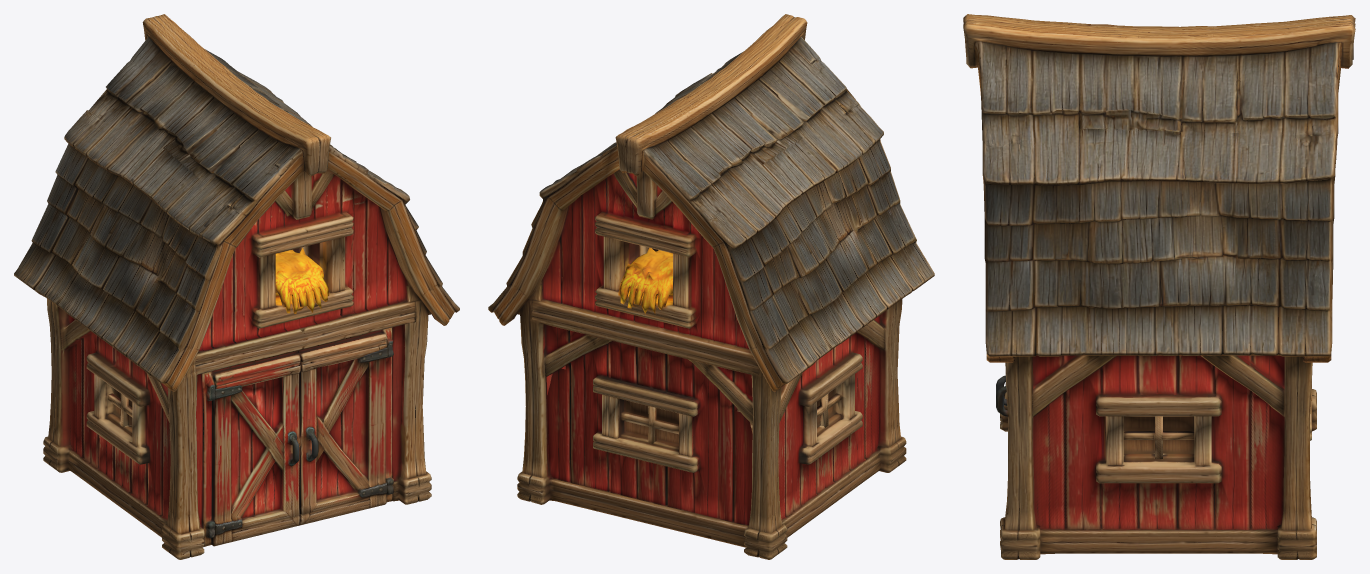
The model's file is small_barn.glb.
3 renders of one model, left to right at view 1: azimuth 30°, elevation 25°; view 2: azimuth 150°, elevation 25°; view 3: azimuth 270°, elevation 25°, orthographic. The views are drawn at different scales.
Visible parts, largest first — view 1: tripo_node_f1a62f17-a971-48fe-877e-44ef41d2149a; view 2: tripo_node_f1a62f17-a971-48fe-877e-44ef41d2149a; view 3: tripo_node_f1a62f17-a971-48fe-877e-44ef41d2149a.
Boxes of the visible parts, x1,y1,x2,y2 form: tripo_node_f1a62f17-a971-48fe-877e-44ef41d2149a: (14,14,459,559); tripo_node_f1a62f17-a971-48fe-877e-44ef41d2149a: (488,14,934,559); tripo_node_f1a62f17-a971-48fe-877e-44ef41d2149a: (963,14,1355,559).
Bounding box in the file's own units: 0.7615 × 0.9777 × 0.7404.
Materials: 1 (1 with a texture image).
